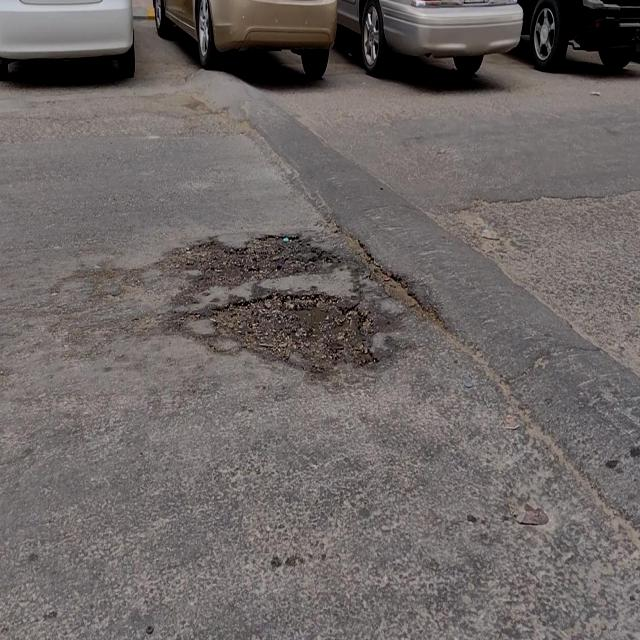Potholes: (212, 287, 376, 374)
